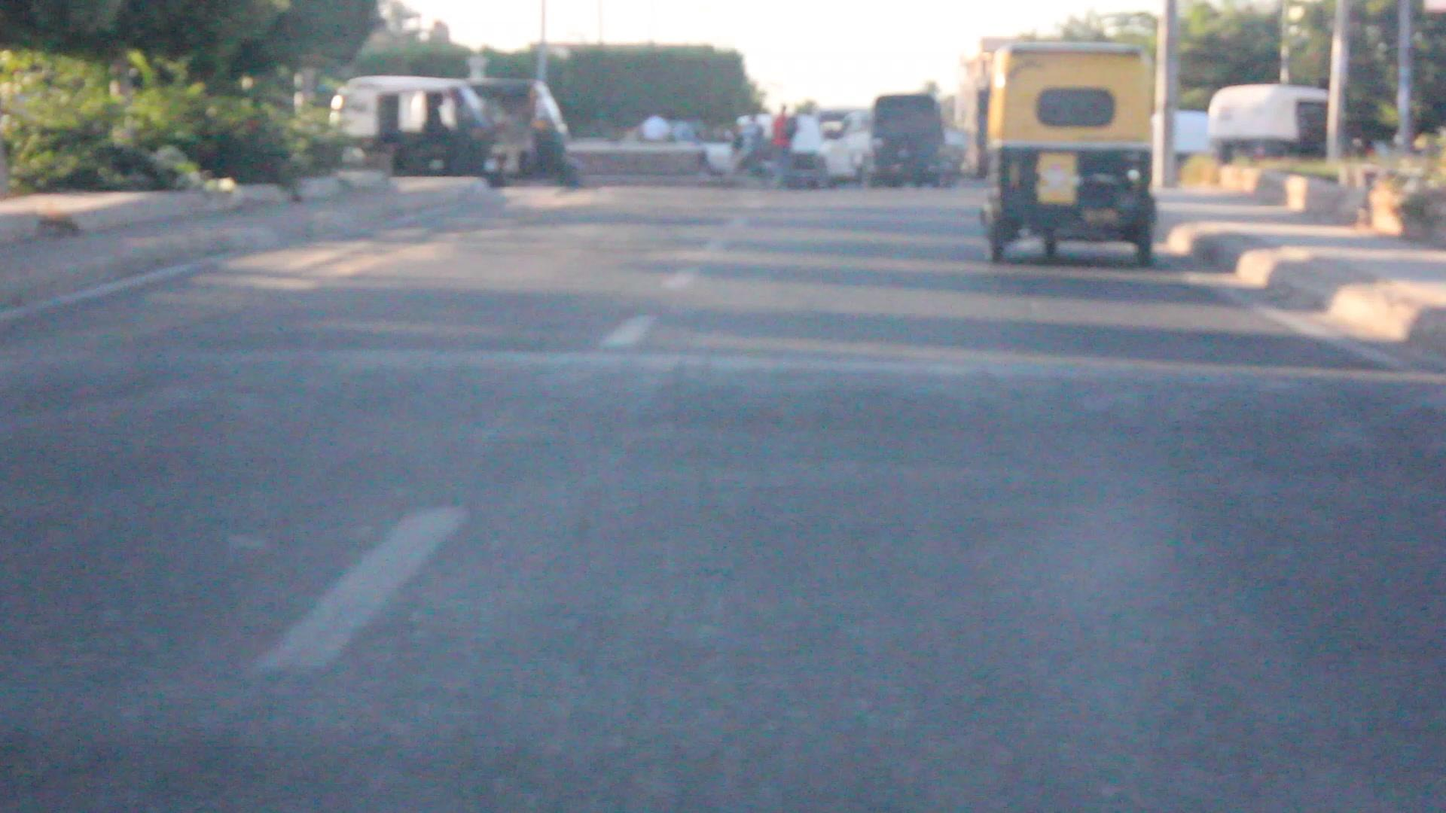Bump: (68, 343, 1446, 478)
